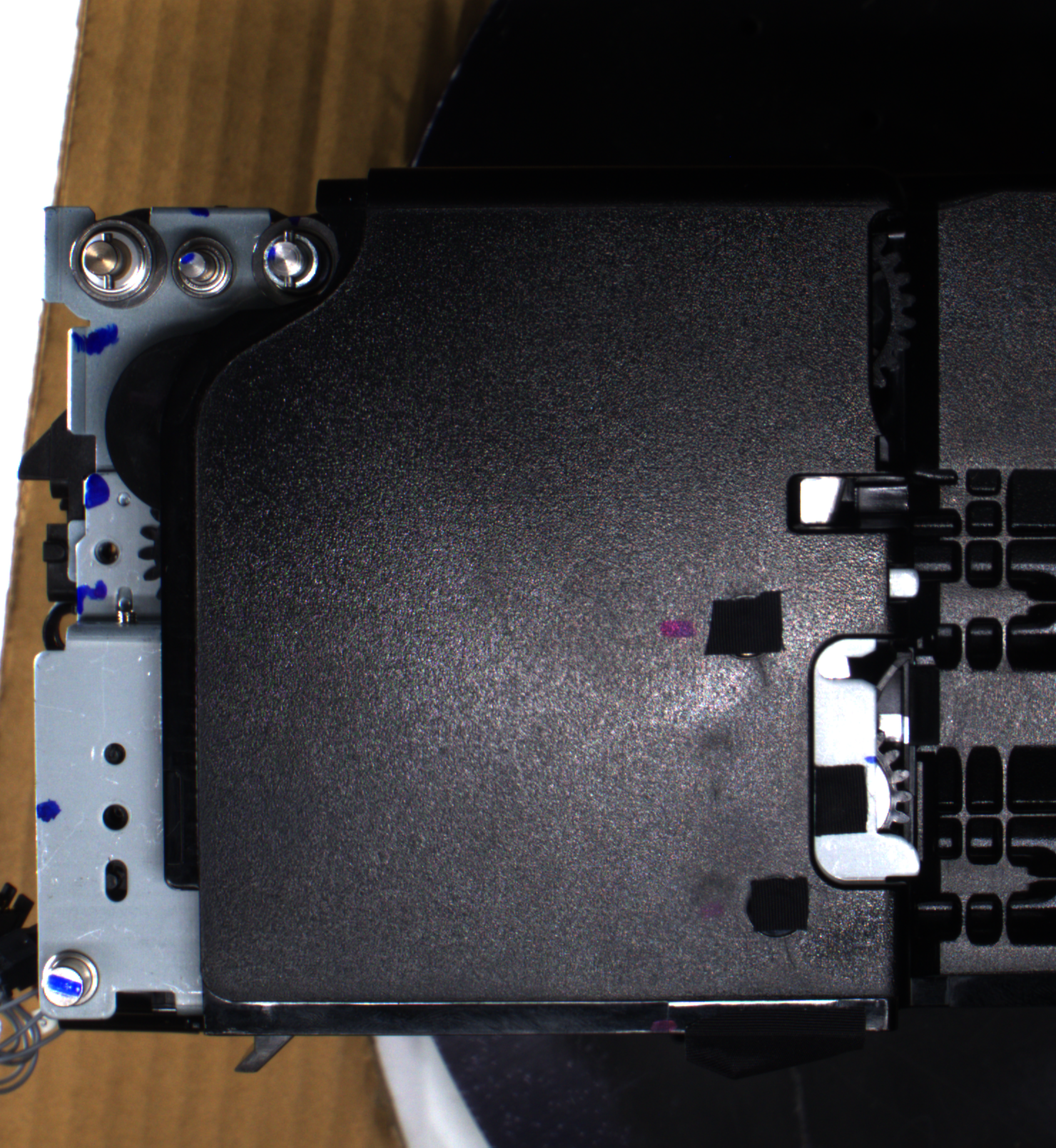centre_plate_presence: (802, 628, 930, 894)
gear1_absence: (66, 215, 169, 310)
gear2_absence: (165, 230, 238, 302)
gear3_absence: (247, 216, 338, 301)
side_screw_absence: (88, 536, 123, 571), (97, 802, 133, 835)
slanting_pin_presence: (36, 946, 107, 1015)
